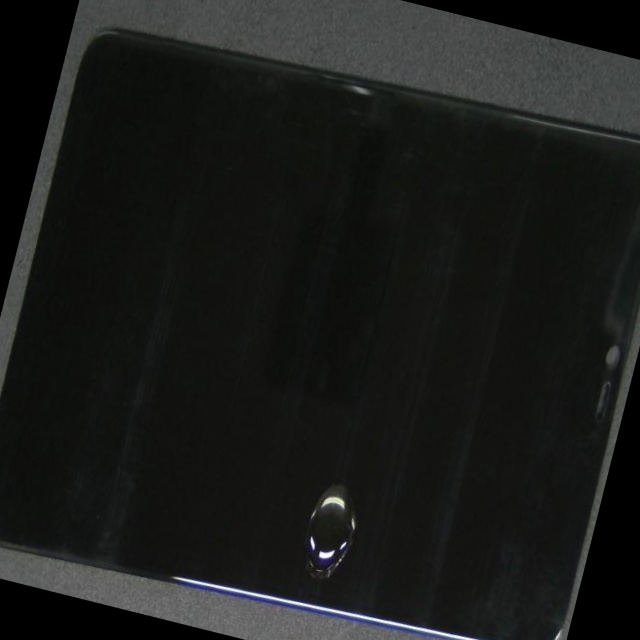oil: (146, 240, 618, 640)
